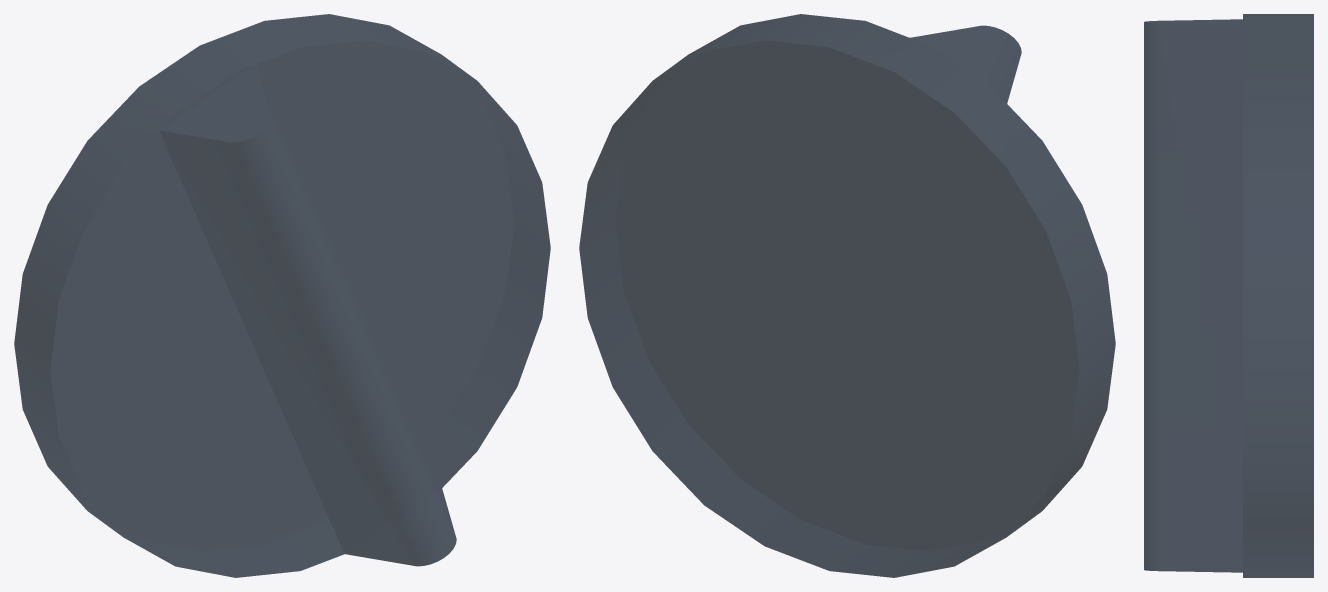
Rendered from original-21.obj.
The picture shows the model from 3 angles, left to right: view 1: azimuth 30°, elevation 25°; view 2: azimuth 150°, elevation 25°; view 3: azimuth 270°, elevation 25°; orthographic projection. The views are drawn at different scales.
Visible parts, largest first — view 1: Group11/mesh33/mesh33-geometry#mesh33-geometry; view 2: Group11/mesh33/mesh33-geometry#mesh33-geometry; view 3: Group11/mesh33/mesh33-geometry#mesh33-geometry.
Part boxes in pixels (box(x1,y1,x2,y2)): Group11/mesh33/mesh33-geometry#mesh33-geometry: box(14, 14, 550, 577); Group11/mesh33/mesh33-geometry#mesh33-geometry: box(579, 14, 1115, 577); Group11/mesh33/mesh33-geometry#mesh33-geometry: box(1144, 14, 1313, 577).
Bounding box in the file's own units: 0.1308 × 0.1308 × 0.0392.
